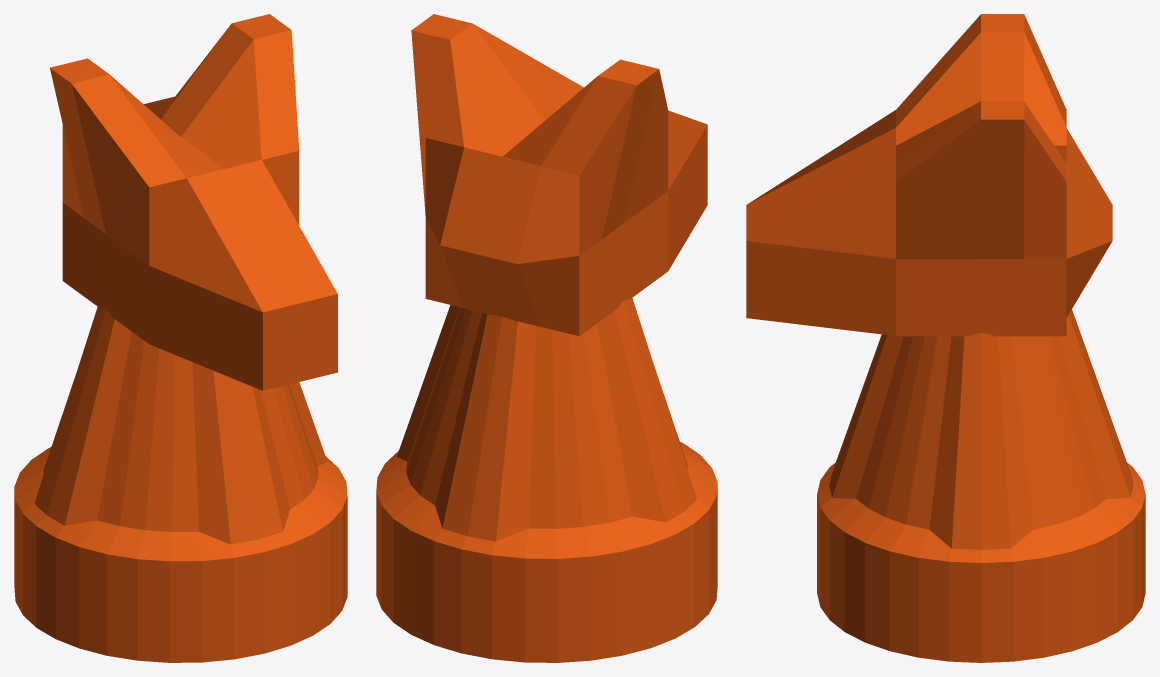
The model's file is cavalo.fbx.
3 views of the same model, side by side, from view 1: azimuth 30°, elevation 25°; view 2: azimuth 150°, elevation 25°; view 3: azimuth 270°, elevation 25° (orthographic). The views are drawn at different scales.
Parts seen in each view (by area): view 1: Cylinder, Cube; view 2: Cylinder, Cube; view 3: Cylinder, Cube.
Boxes of the visible parts, <box> form: Cylinder: <box>14,307,347,662</box>; Cube: <box>50,14,337,390</box>; Cylinder: <box>376,298,717,662</box>; Cube: <box>411,14,707,336</box>; Cylinder: <box>817,309,1145,662</box>; Cube: <box>746,14,1112,336</box>.
Size of the model in its own units: 242 by 429 by 295.
